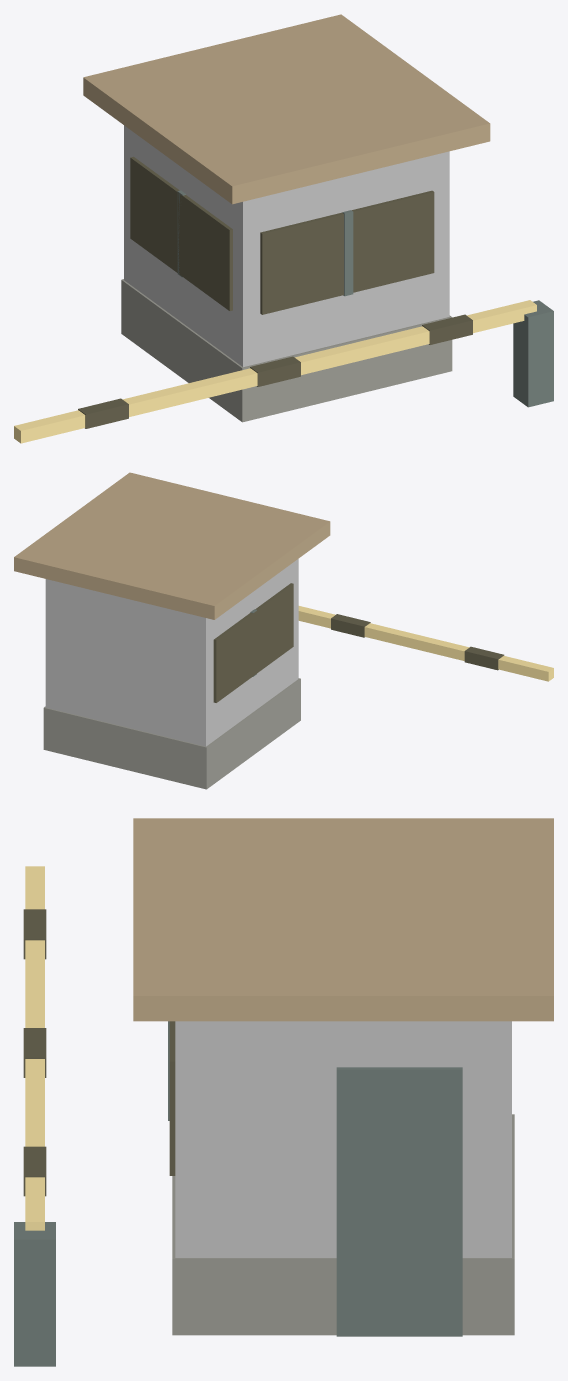
File: SM_Garita_v0_LOD0.fbx
3 renders of one model, top to bottom at view 1: azimuth 30°, elevation 25°; view 2: azimuth 150°, elevation 25°; view 3: azimuth 270°, elevation 25°, orthographic. The views are drawn at different scales.
Parts seen in each view (by area): view 1: SM_garita_v0_LOD0, Barrera; view 2: SM_garita_v0_LOD0, Barrera; view 3: SM_garita_v0_LOD0, Barrera.
Part boxes in pixels (x1=…): SM_garita_v0_LOD0: x1=83, y1=14, x2=553, y2=422; Barrera: x1=14, y1=300, x2=536, y2=443; SM_garita_v0_LOD0: x1=14, y1=472, x2=330, y2=789; Barrera: x1=298, y1=606, x2=553, y2=681; SM_garita_v0_LOD0: x1=14, y1=818, x2=553, y2=1366; Barrera: x1=23, y1=866, x2=46, y2=1230.
Bounding box in the file's own units: 6.15 × 2.8 × 3.85.
